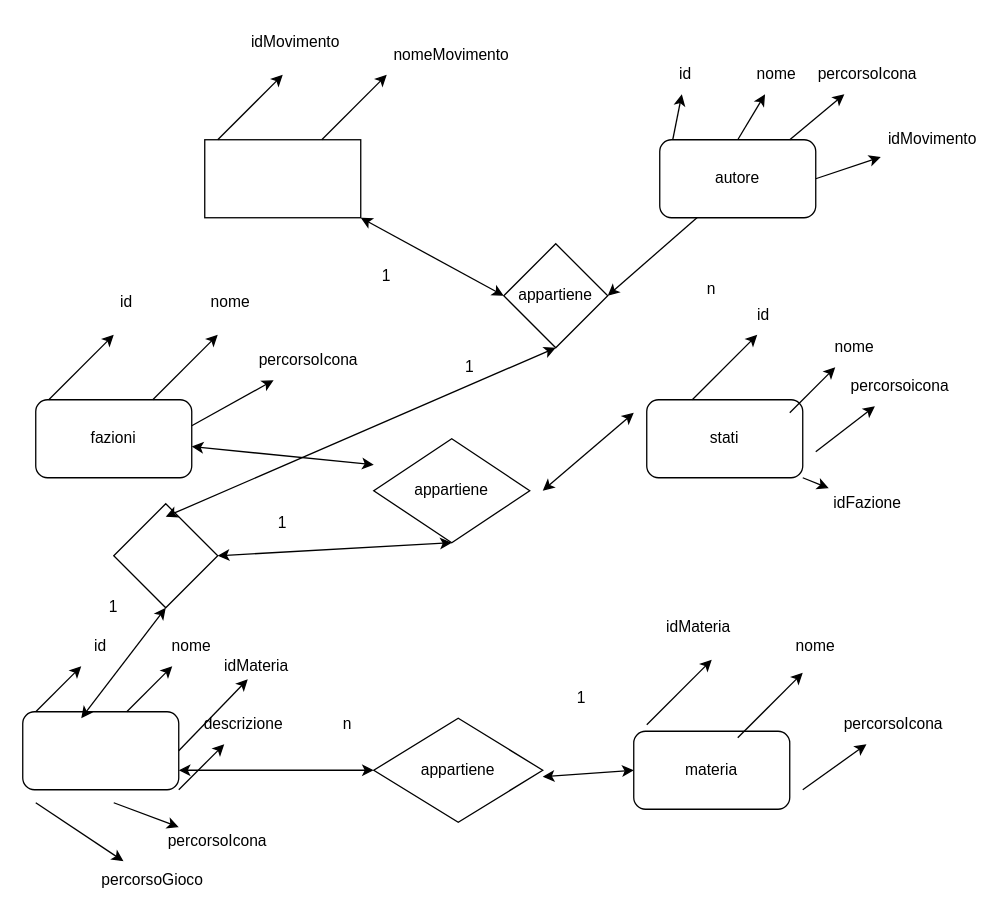
The diagram is 1007 pixels wide and 922 high, and some of its shapes have lost their labels. The shapes that lost their labels are listed below. From the top down, each one's box as (x1, y1, x2, y2) in pixels, then its label:
(203, 138, 361, 218): movimento
(112, 502, 218, 608): comprende
(21, 710, 179, 790): gioco
